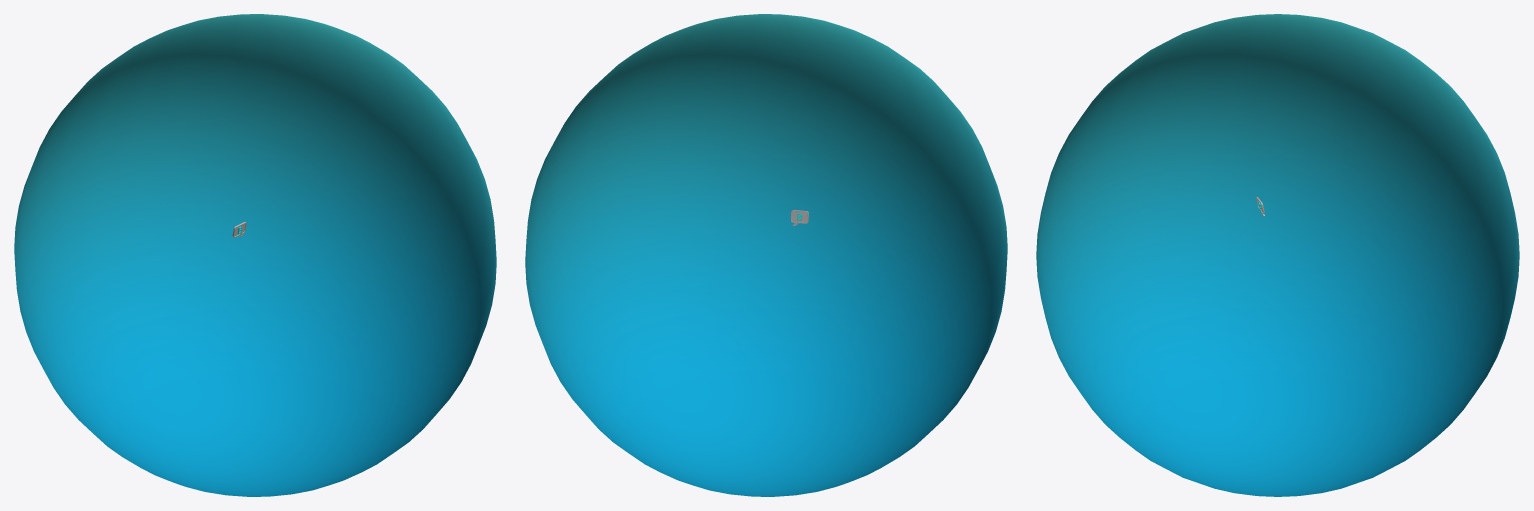
The picture shows the model from 3 angles, left to right: view 1: azimuth 30°, elevation 25°; view 2: azimuth 150°, elevation 25°; view 3: azimuth 270°, elevation 25°; orthographic projection.
Bounding box in the file's own units: 680 × 680 × 680.
Materials: 3 (2 with a texture image).
